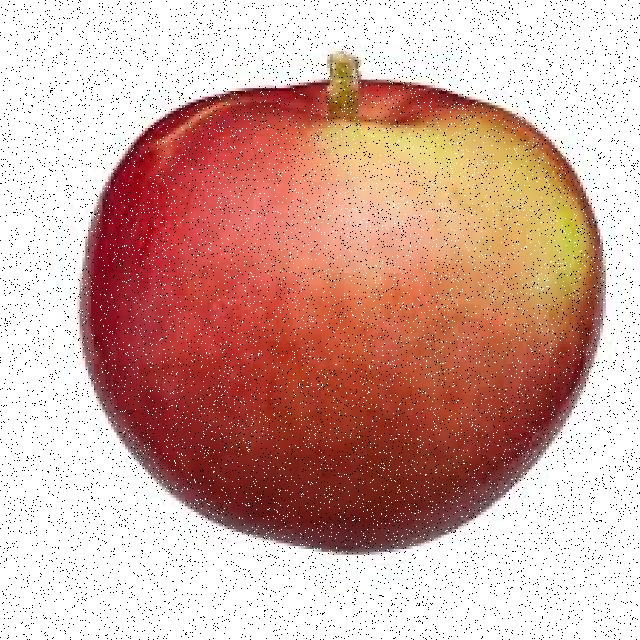Apple: (82, 55, 606, 553)
